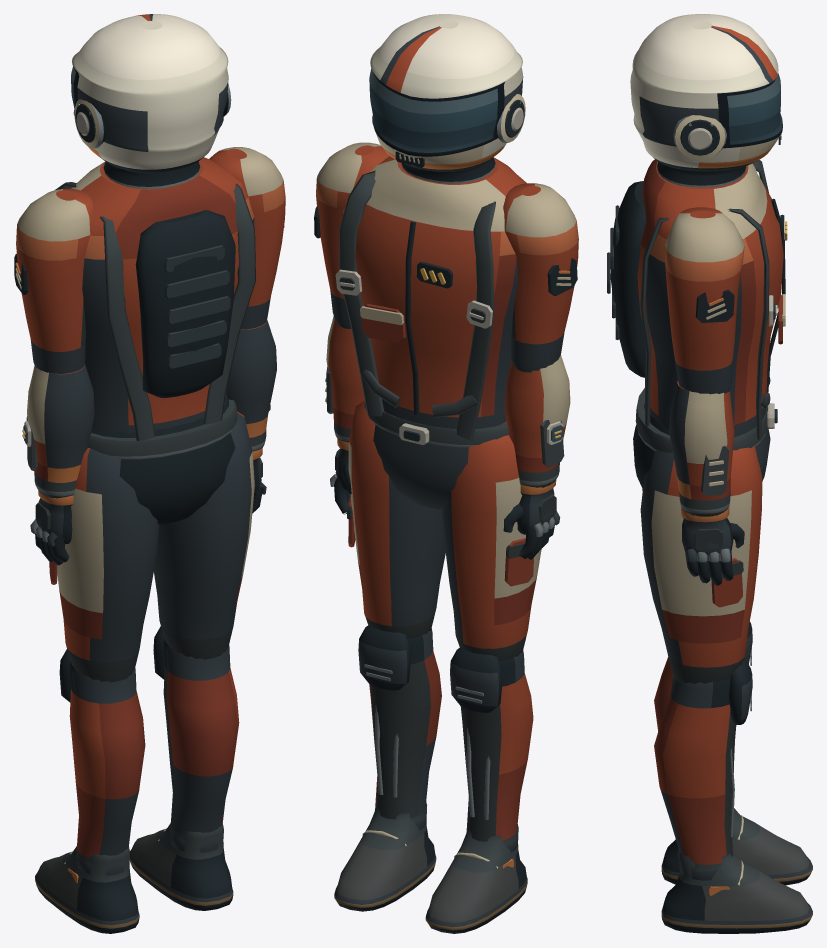
Rendered from pilot_suit.glb.
3 views of the same model, side by side, from view 1: azimuth 30°, elevation 25°; view 2: azimuth 150°, elevation 25°; view 3: azimuth 270°, elevation 25° (orthographic). The views are drawn at different scales.
Parts seen in each view (by area): view 1: Torso, Head, ThighL, ThighR, ShinL, ShinR, ArmL, Pelvis, ForearmL, BootL, BootR, ArmR (+3 smaller); view 2: Torso, Head, ThighL, ThighR, ShinR, ShinL, ArmL, Pelvis, BootL, BootR, ForearmL, ArmR (+3 smaller); view 3: Torso, Head, ThighR, ShinR, ArmR, BootR, ForearmR, BootL, GloveR, Pelvis, ShinL.
Part boxes in pixels (x1=…): Torso: x1=55, y1=157, x2=255, y2=440; Head: x1=71, y1=14, x2=231, y2=188; ThighL: x1=49, y1=448, x2=159, y2=682; ThighR: x1=154, y1=411, x2=254, y2=659; ShinL: x1=59, y1=649, x2=145, y2=875; ShinR: x1=153, y1=626, x2=239, y2=852; ArmL: x1=14, y1=188, x2=93, y2=373; Pelvis: x1=88, y1=397, x2=237, y2=524; ForearmL: x1=22, y1=364, x2=94, y2=498; BootL: x1=35, y1=846, x2=139, y2=933; BootR: x1=129, y1=822, x2=233, y2=910; ArmR: x1=209, y1=147, x2=285, y2=329; Torso: x1=335, y1=156, x2=526, y2=440; Head: x1=369, y1=14, x2=525, y2=183; ThighL: x1=441, y1=435, x2=541, y2=661; ThighR: x1=347, y1=400, x2=445, y2=638; ShinR: x1=358, y1=625, x2=441, y2=830; ShinL: x1=450, y1=647, x2=533, y2=852; ArmL: x1=503, y1=183, x2=578, y2=372; Pelvis: x1=364, y1=402, x2=508, y2=509; BootL: x1=425, y1=824, x2=527, y2=933; BootR: x1=334, y1=802, x2=436, y2=911; ForearmL: x1=504, y1=355, x2=570, y2=487; ArmR: x1=314, y1=142, x2=389, y2=328; Torso: x1=607, y1=159, x2=787, y2=439; Head: x1=630, y1=14, x2=782, y2=187; ThighR: x1=640, y1=446, x2=762, y2=683; ShinR: x1=654, y1=657, x2=752, y2=880; ArmR: x1=665, y1=207, x2=744, y2=394; BootR: x1=661, y1=850, x2=812, y2=933; ForearmR: x1=669, y1=381, x2=734, y2=516; BootL: x1=661, y1=808, x2=812, y2=885; GloveR: x1=681, y1=506, x2=744, y2=585; Pelvis: x1=633, y1=388, x2=777, y2=488; ShinL: x1=654, y1=621, x2=752, y2=752.
Size of the model in its own units: 0.5546 by 1.8 by 0.3835.
